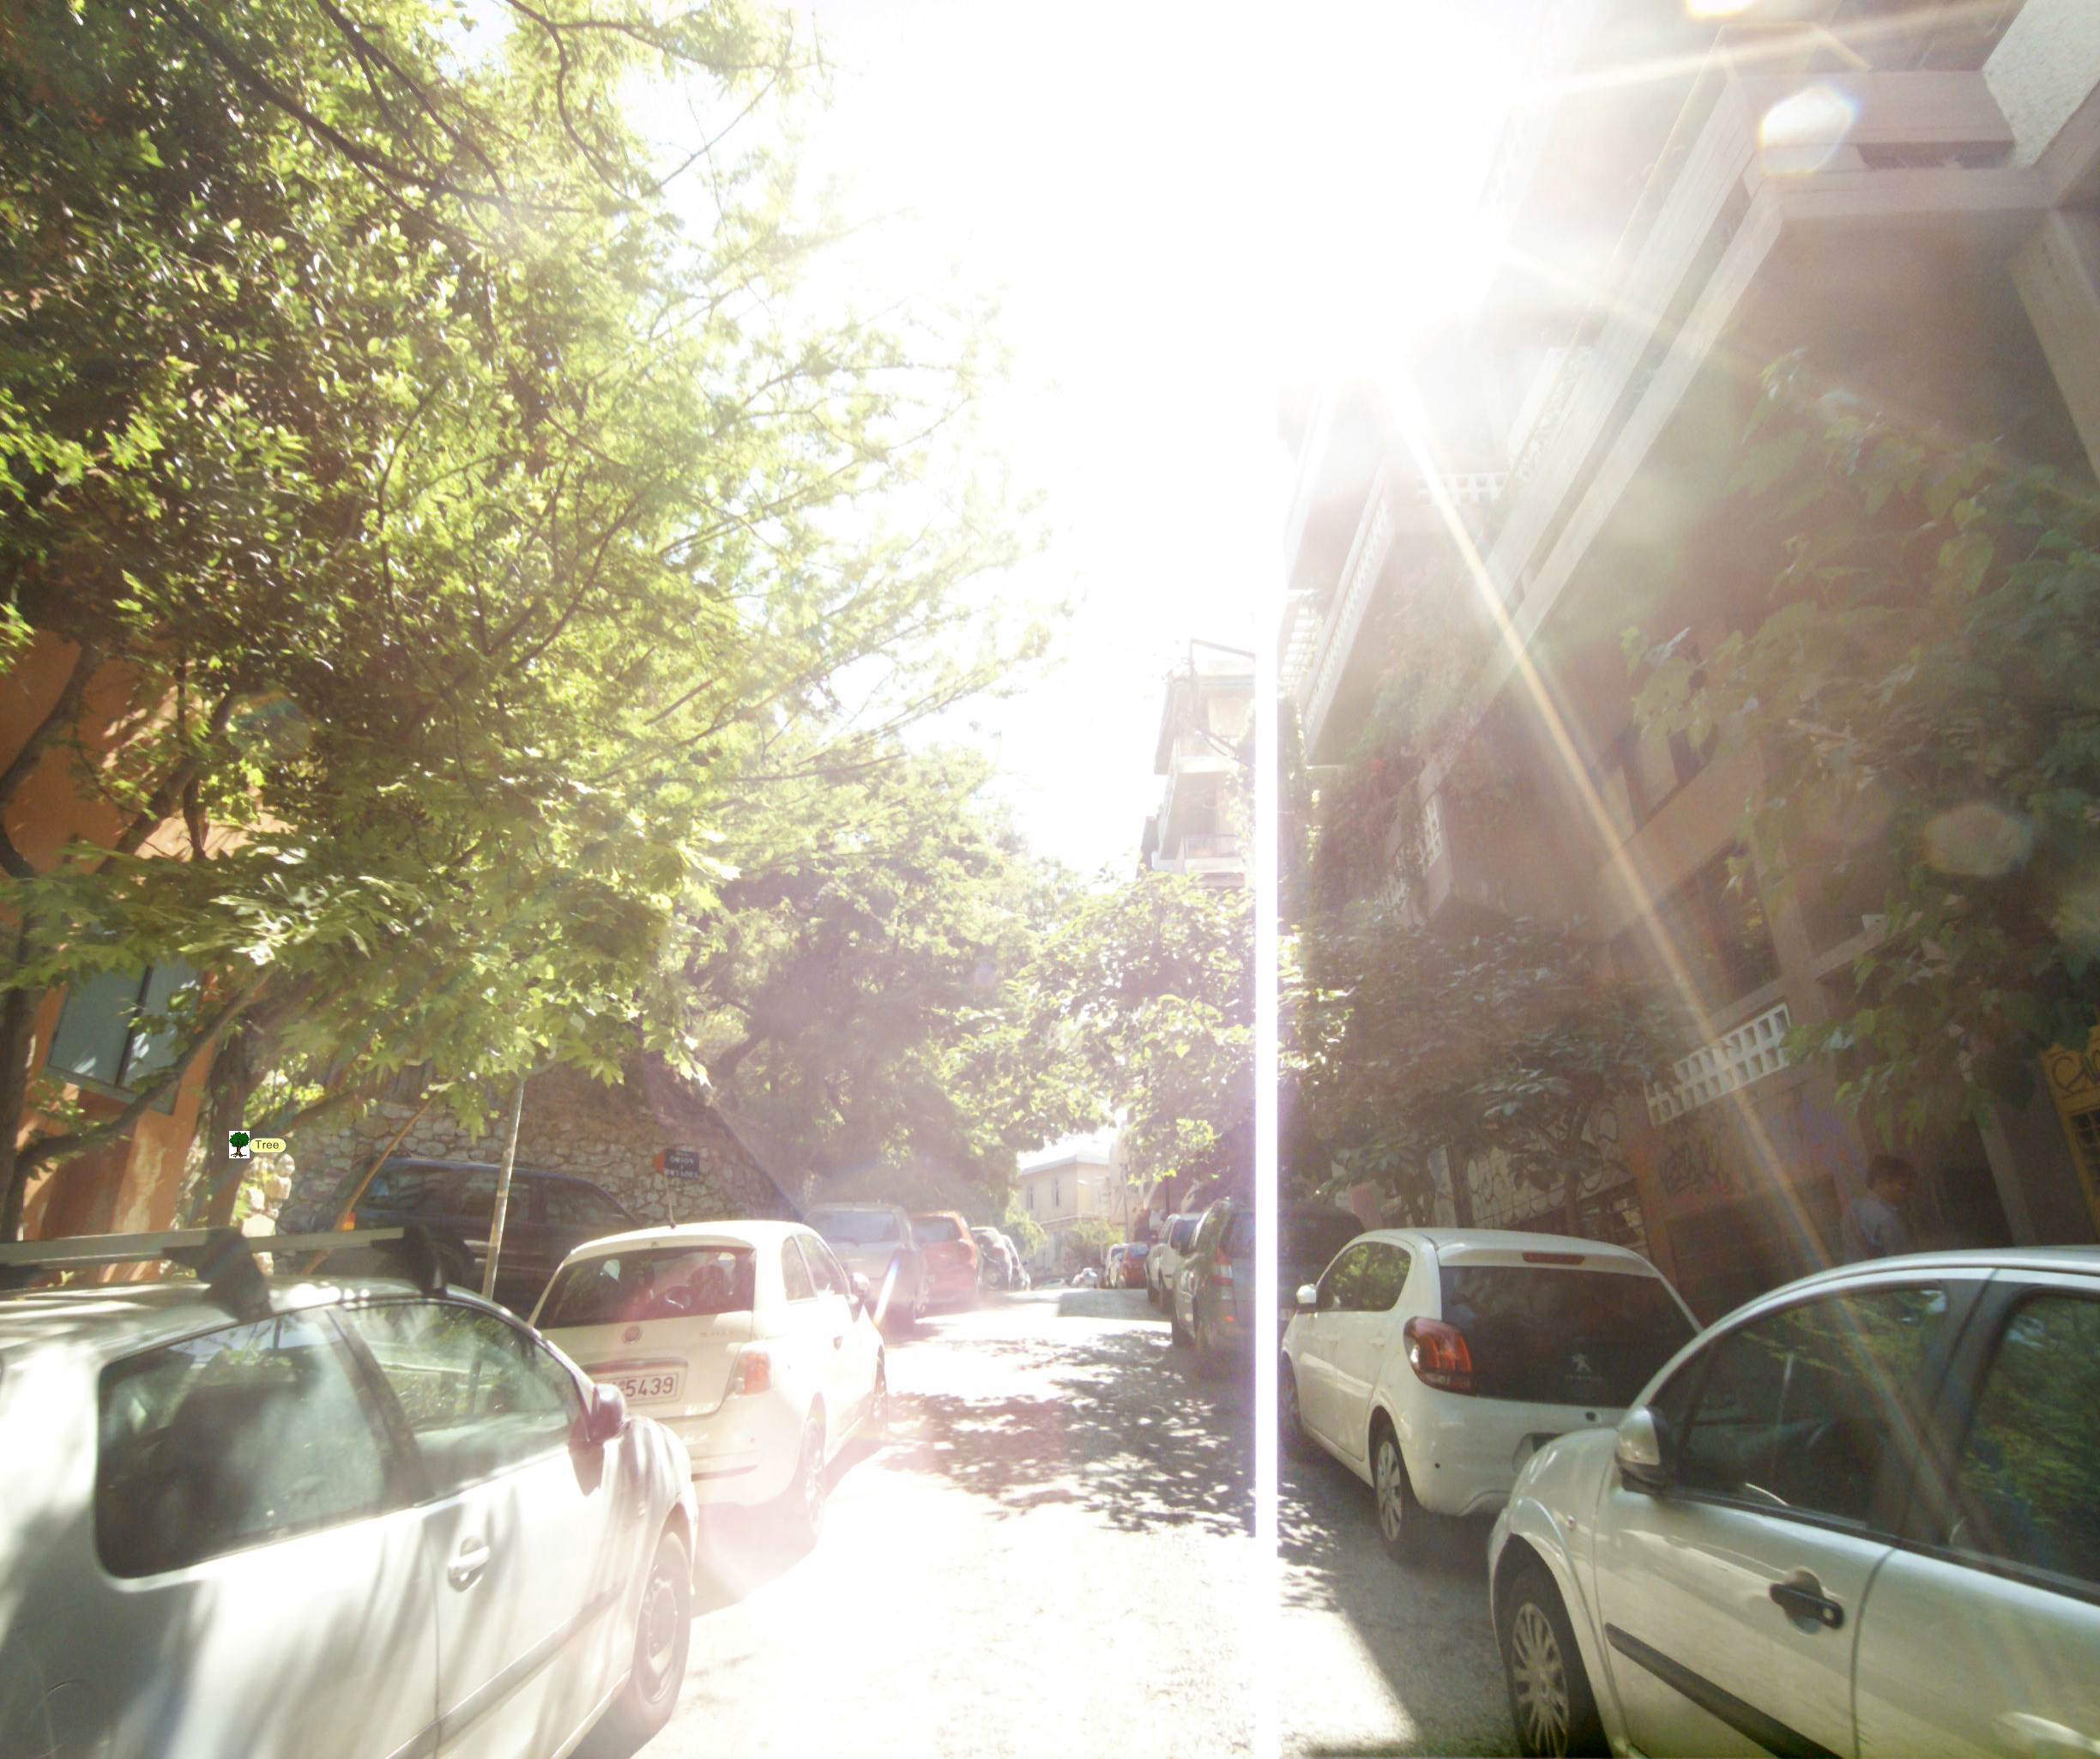tree: (129, 14, 497, 1473)
